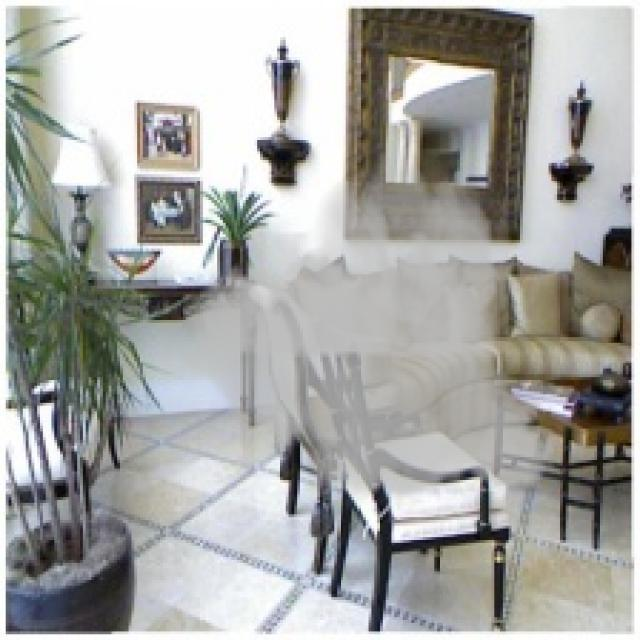Smoke: (166, 148, 572, 514)
